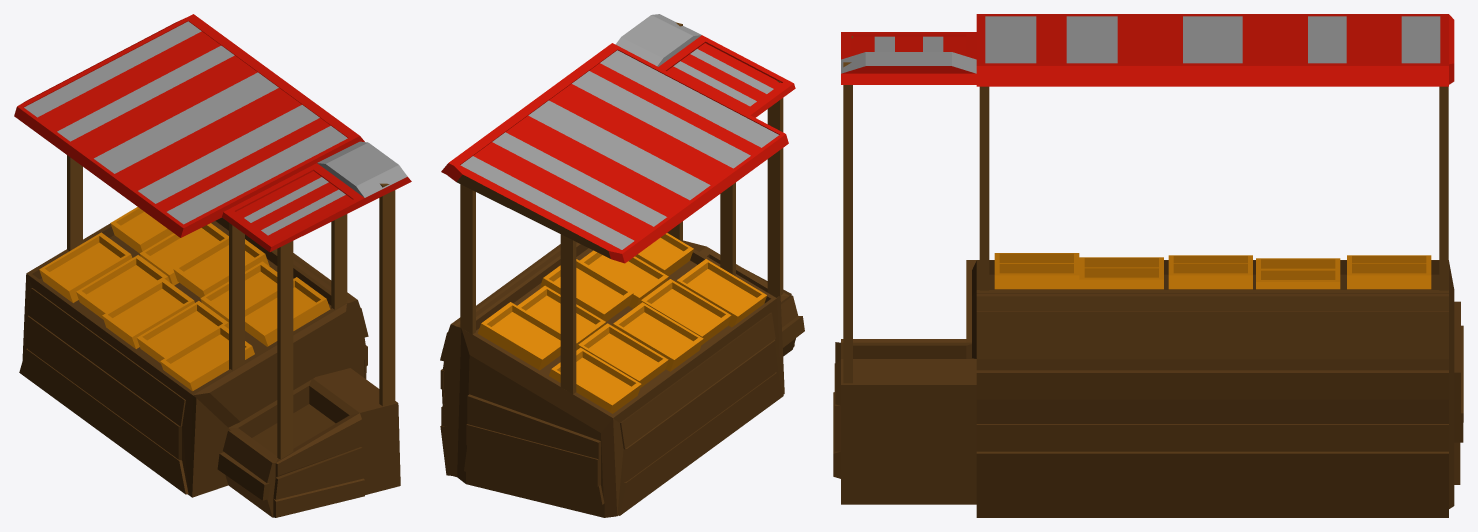
File: Shop.fbx
The picture shows the model from 3 angles, left to right: view 1: azimuth 30°, elevation 25°; view 2: azimuth 150°, elevation 25°; view 3: azimuth 270°, elevation 25°; orthographic projection. The views are drawn at different scales.
Visible parts, largest first — view 1: Cube.011, Cube.002, Cube.016; view 2: Cube.011, Cube.002, Cube.016; view 3: Cube.011, Cube.002, Cube.016.
Boxes of the visible parts, left/top/right/bottom form: Cube.011: left=14, top=14, right=411, bottom=517; Cube.002: left=39, top=207, right=330, bottom=391; Cube.016: left=67, top=155, right=395, bottom=459; Cube.011: left=440, top=14, right=804, bottom=517; Cube.002: left=477, top=233, right=766, bottom=413; Cube.016: left=460, top=22, right=783, bottom=393; Cube.011: left=833, top=14, right=1463, bottom=517; Cube.002: left=994, top=253, right=1431, bottom=289; Cube.016: left=843, top=36, right=1448, bottom=383.
Bounding box in the file's own units: 1193 × 1940 × 2443.
